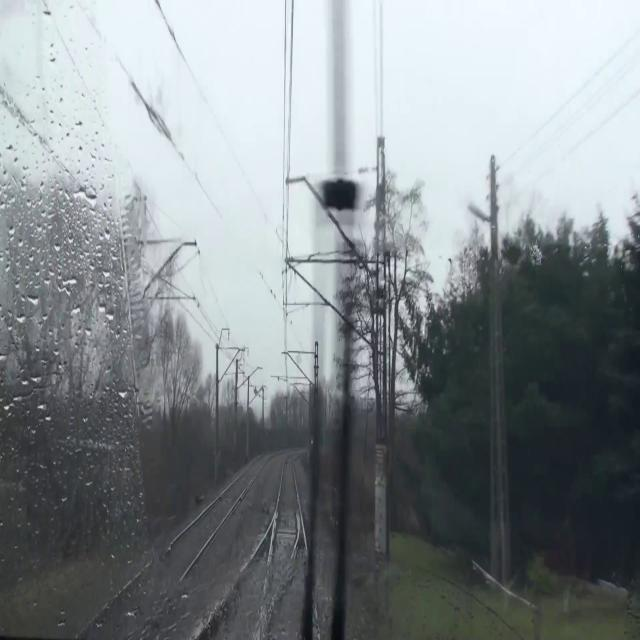rail-track: (83, 463, 259, 639), (201, 540, 268, 639), (264, 538, 314, 639), (268, 459, 297, 600)
